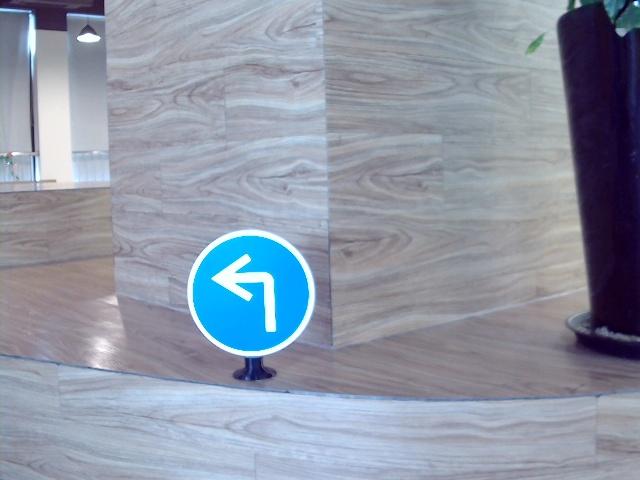turn_left: (209, 250, 284, 332)
